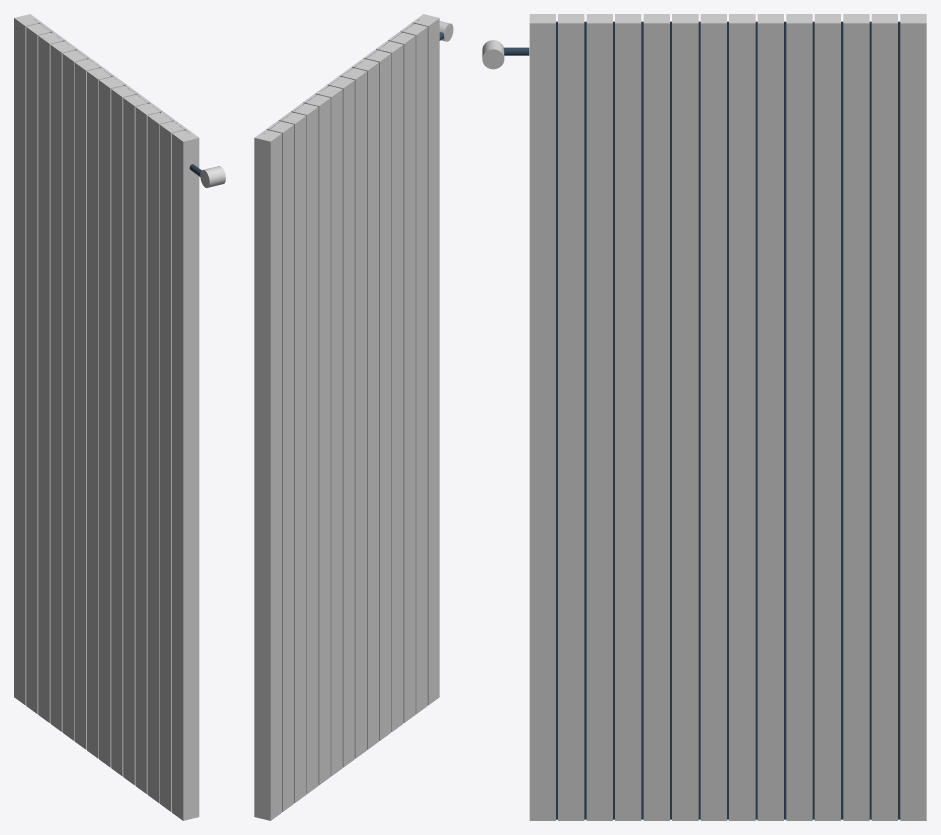
The model's file is Heizung klein 1.fbx.
3 views of the same model, side by side, from view 1: azimuth 30°, elevation 25°; view 2: azimuth 150°, elevation 25°; view 3: azimuth 270°, elevation 25° (orthographic). The views are drawn at different scales.
Parts seen in each view (by area): view 1: Cube; view 2: Cube; view 3: Cube.
Part boxes in pixels (<box>): Cube: <box>14,14,225,820</box>; Cube: <box>254,14,453,820</box>; Cube: <box>482,14,926,820</box>.
Bounding box in the file's own units: 13.93 × 400 × 202.
